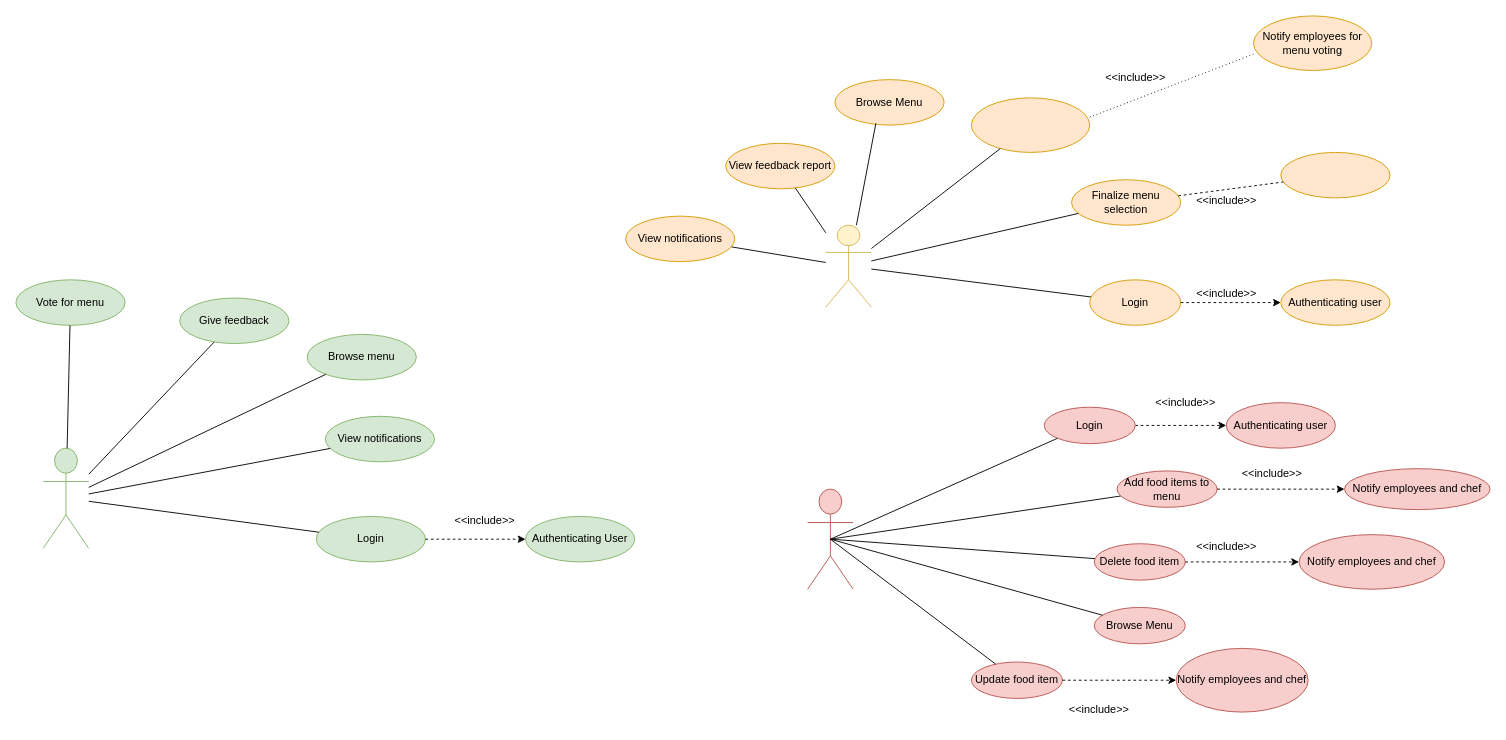
The diagram is 1506 pixels wide and 740 high, and some of its shapes have lost their labels. Each missing label, with the centre of its shape:
"Admin" belongs at point 830,538.
"Chef" belongs at point 848,265.
"Employee" belongs at point 65,497.
"Notify employees of next day's menu" belongs at point 1335,175.
"Plan daily menu" belongs at point 1030,124.
